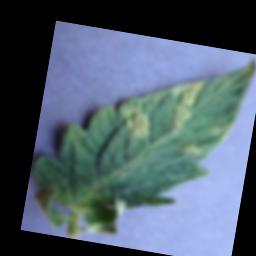Leaf_Mold: (159, 74, 206, 137), (113, 93, 157, 143), (204, 116, 234, 144), (178, 141, 203, 157)
